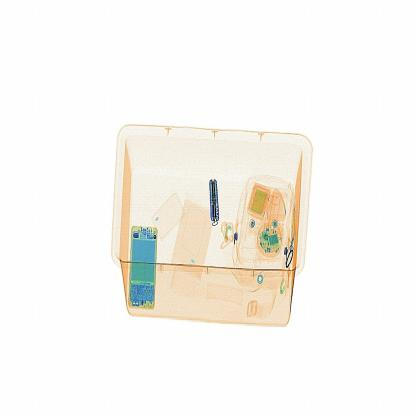scissors: (199, 164, 232, 234)
